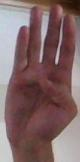B: (2, 0, 80, 162)
